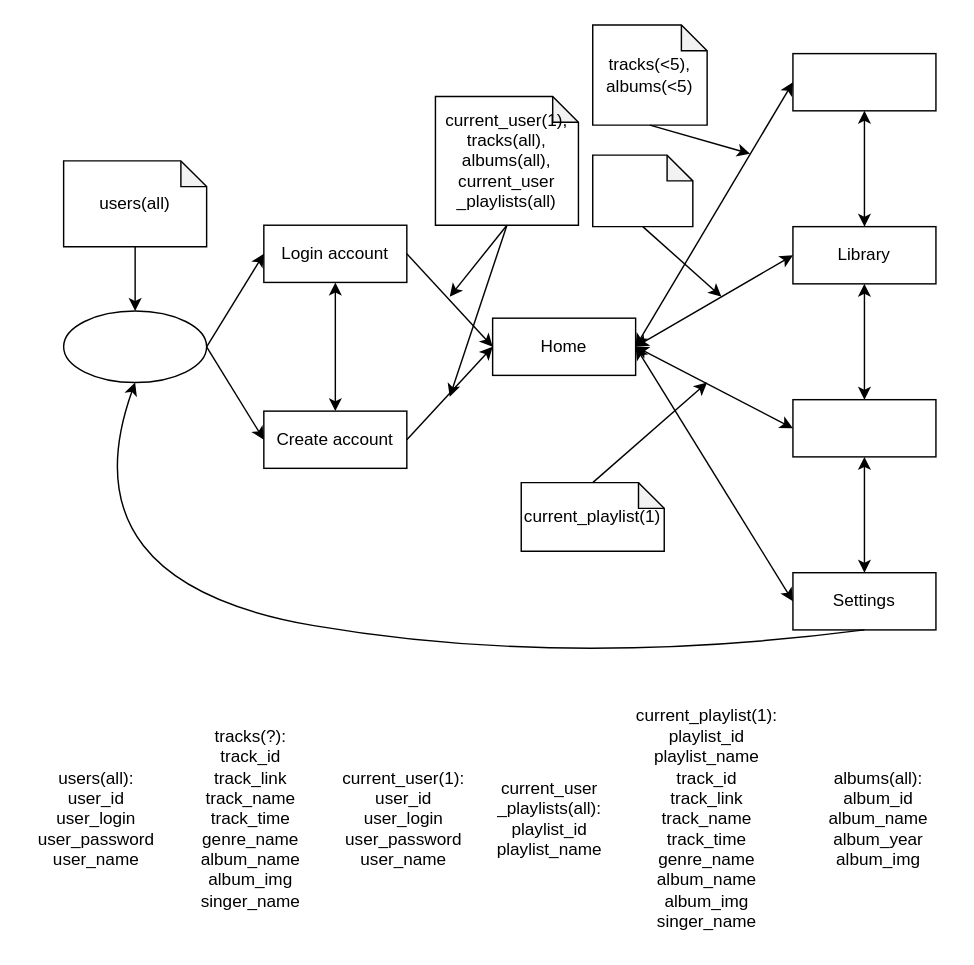
This 974x965 diagram has some shape labels left out. The shapes that lost their labels are listed below. From the top down, each one's centre as x and y in pixels, then its label:
point 864,81: Searcher
point 642,190: tracks(10)
point 134,346: Enter
point 864,427: Playlist
